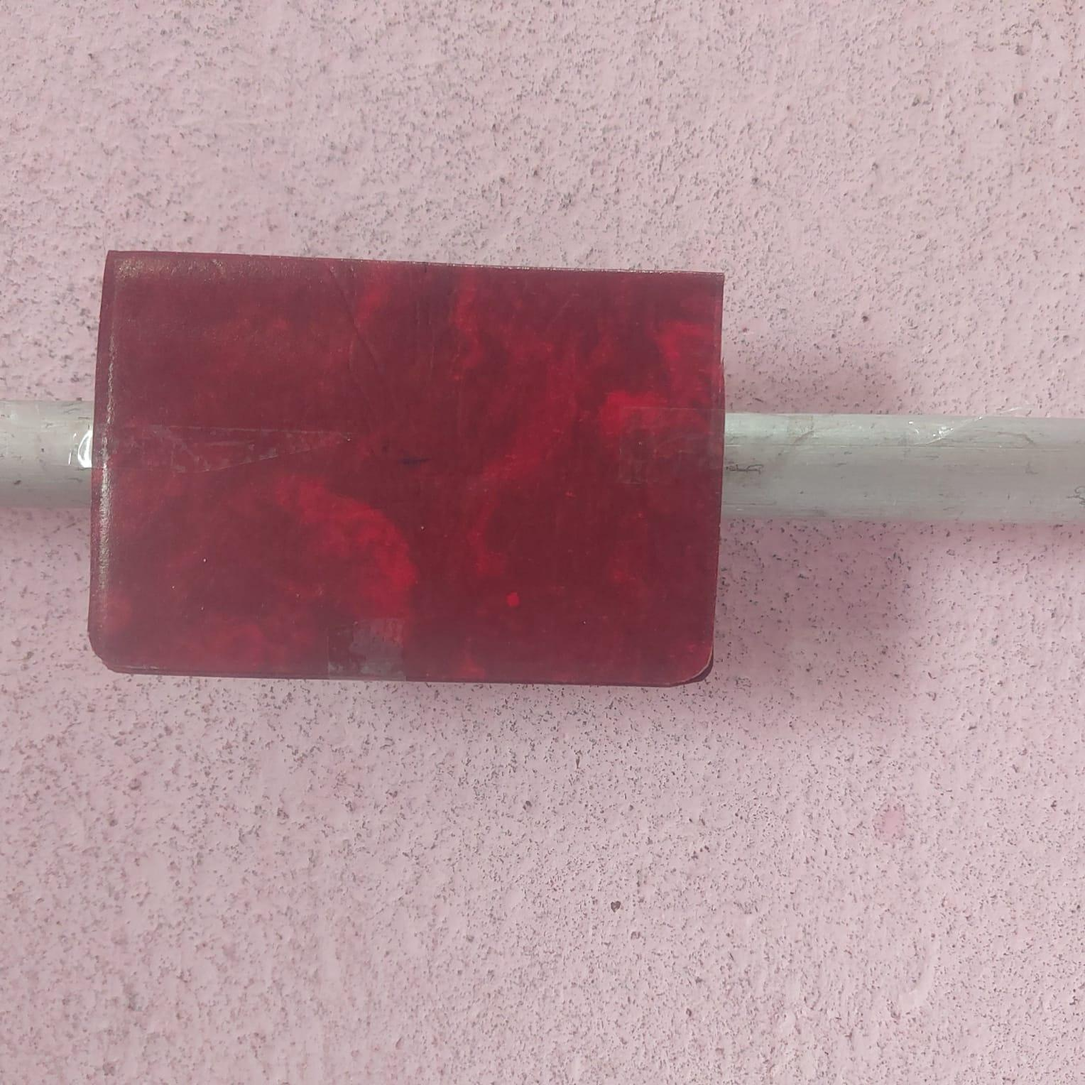wallet: (88, 240, 731, 685)
